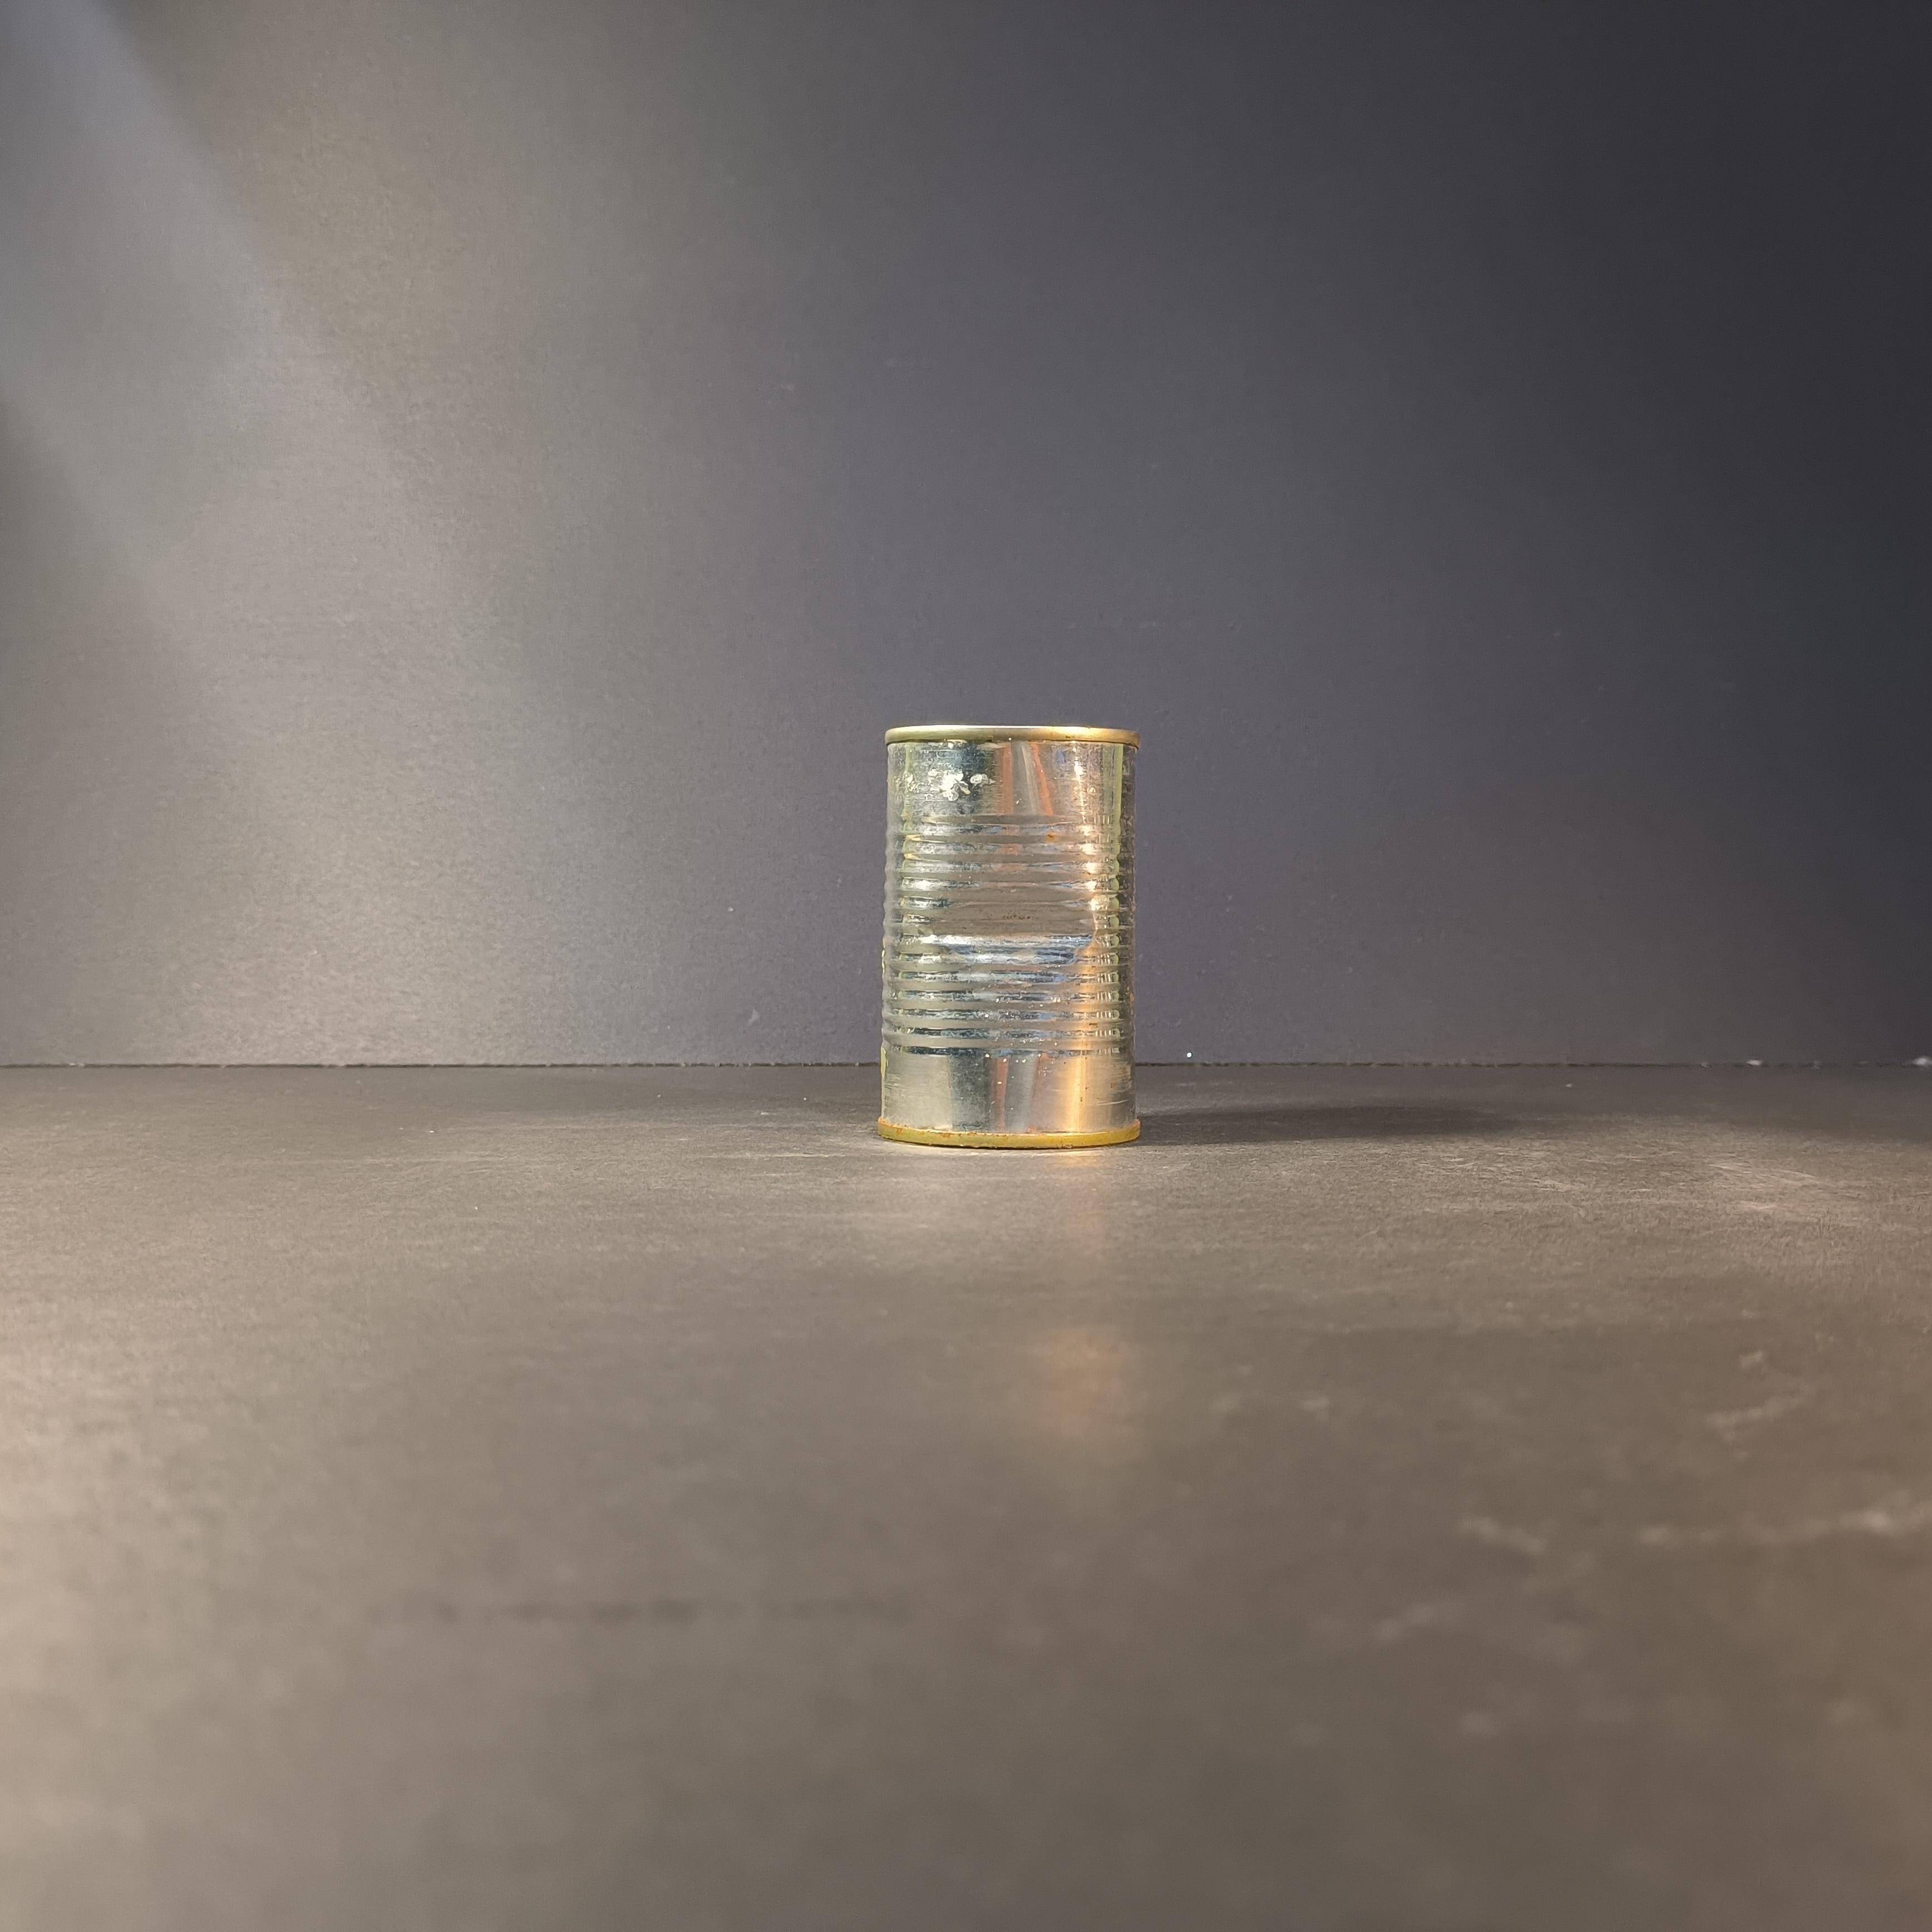Dented: (855, 690, 1155, 1182)
